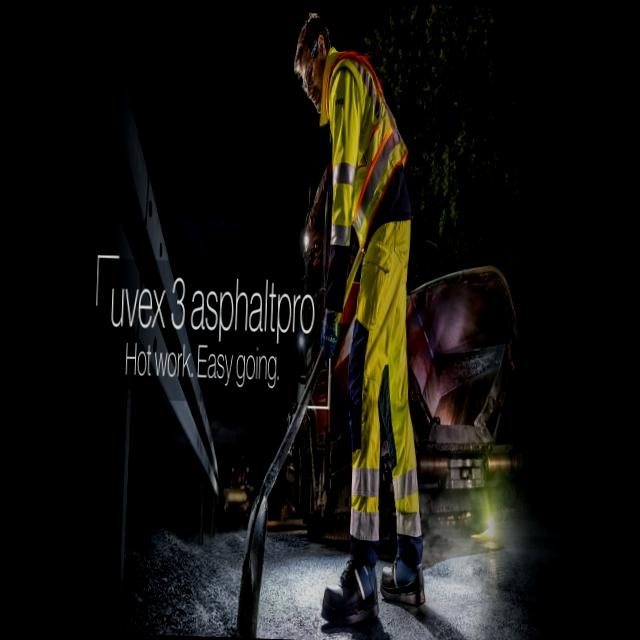goggles: (298, 36, 322, 98)
no-helmet: (281, 0, 322, 71)
vest: (317, 35, 415, 224)
